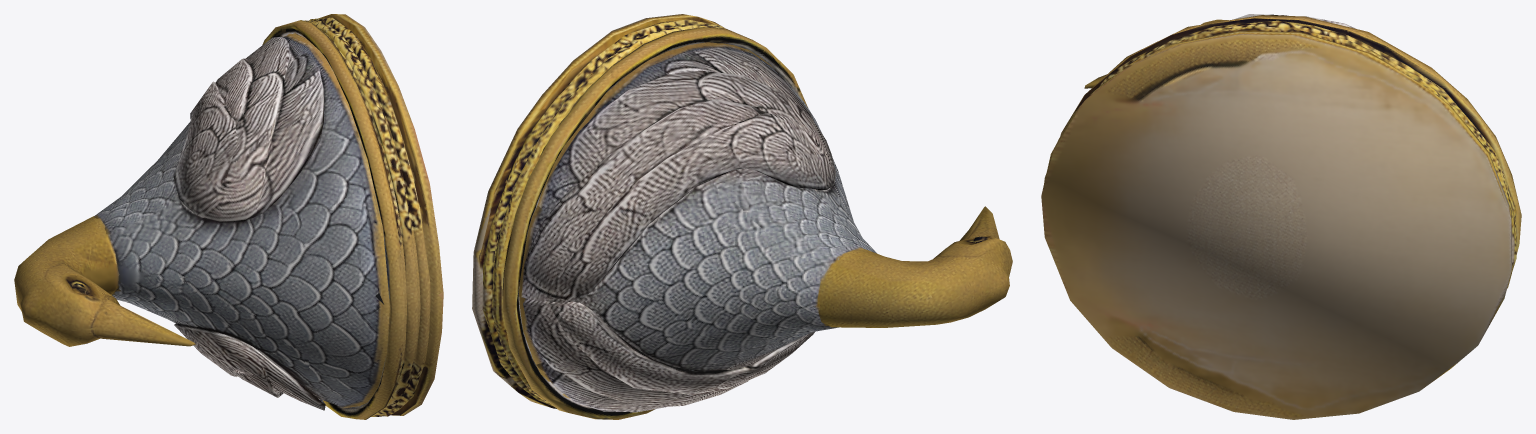
File: mm9_honkhat.glb
The picture shows the model from 3 angles, left to right: view 1: azimuth 30°, elevation 25°; view 2: azimuth 150°, elevation 25°; view 3: azimuth 270°, elevation 25°; orthographic projection. The views are drawn at different scales.
Parts seen in each view (by area): view 1: Hat; view 2: Hat; view 3: Hat.
Boxes of the visible parts, x1=… form: Hat: x1=14, y1=14, x2=443, y2=419; Hat: x1=472, y1=14, x2=1012, y2=419; Hat: x1=1041, y1=14, x2=1521, y2=419.
Bounding box in the file's own units: 0.27 × 0.2335 × 0.2646.
Materials: 1 (1 with a texture image).
